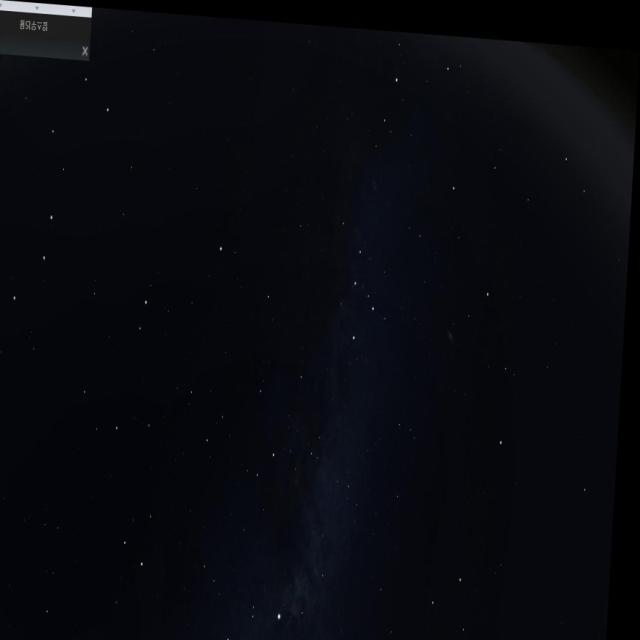cassiopeia: (325, 192, 389, 356)
ursa_major: (8, 74, 118, 325)
